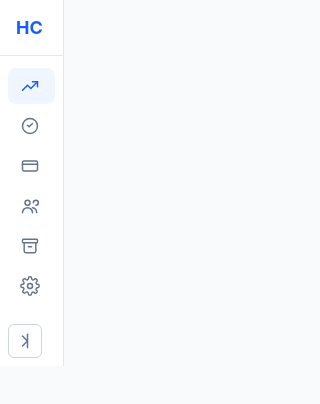
Test: Sidebar › в узком режиме hover по SubTrigger открывает его и закрывает ранее открытый через клик раздел
Click the button named "Inventory" at (32, 246), box [8,228,55,264]
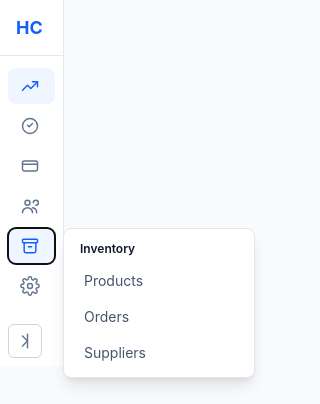
expect the button named "Inventory" is expanded: met, box [8,228,55,264]
Hover over the button named "Clients" at (32, 206), box [8,188,55,224]
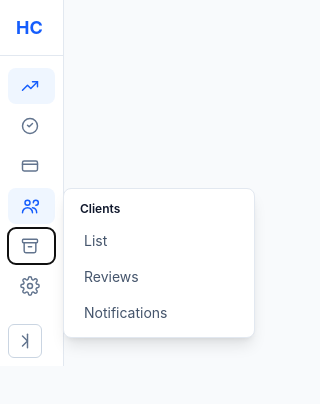
expect the button named "Clients" is expanded: met, box [8,188,55,224]
expect the button named "Inventory" is collapsed: met, box [8,228,55,264]
